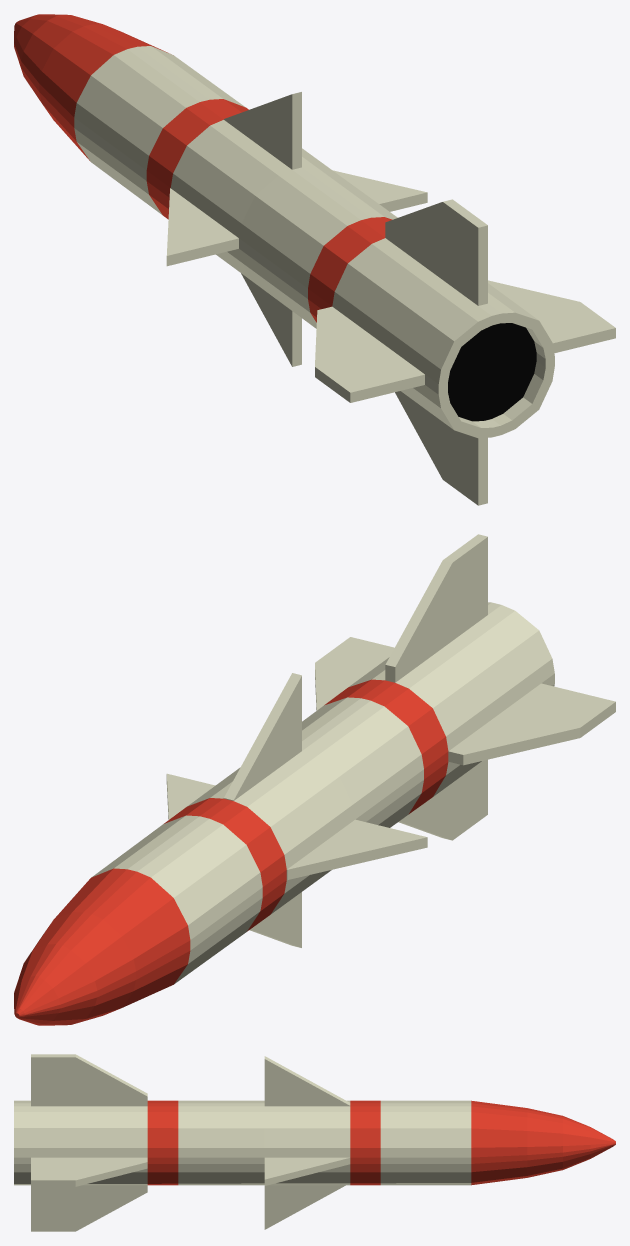
File: Missile.fbx
3 views of the same model, one above another, from view 1: azimuth 30°, elevation 25°; view 2: azimuth 150°, elevation 25°; view 3: azimuth 270°, elevation 25° (orthographic). The views are drawn at different scales.
Parts seen in each view (by area): view 1: Missile; view 2: Missile; view 3: Missile.
Boxes of the visible parts, x1,y1,x2,y2 form: Missile: [14, 14, 615, 505]; Missile: [14, 534, 615, 1025]; Missile: [14, 1054, 615, 1231].
Bounding box in the file's own units: 32.34 × 32.34 × 101.
